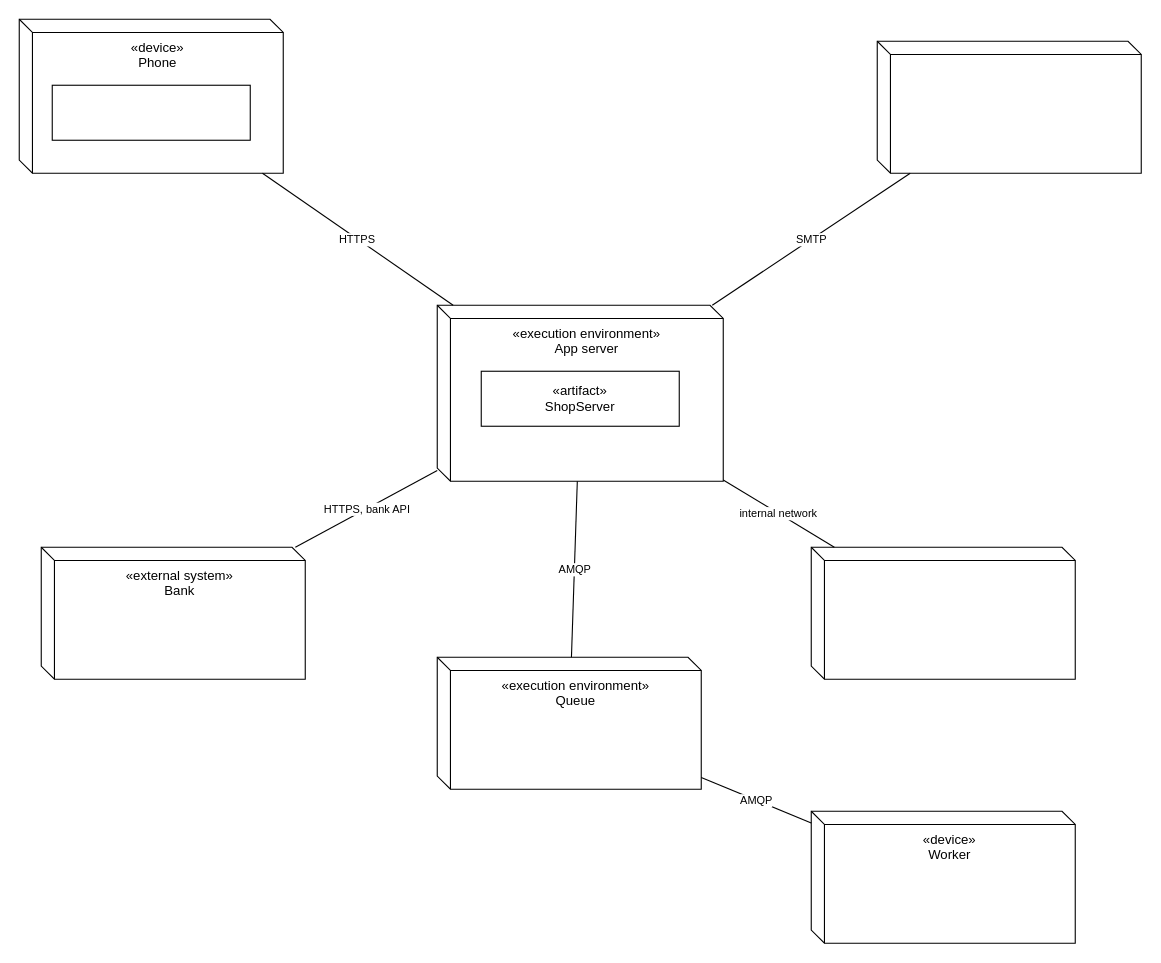
This 1161x963 diagram has some shape labels left out. The box of each missing label's shape, as (x1, y1, x2, y2) in pixels:
«artifact» ShopApp: (51, 84, 250, 140)
«device» Database server: (810, 546, 1075, 679)
«external system» Mail service: (876, 40, 1141, 173)
